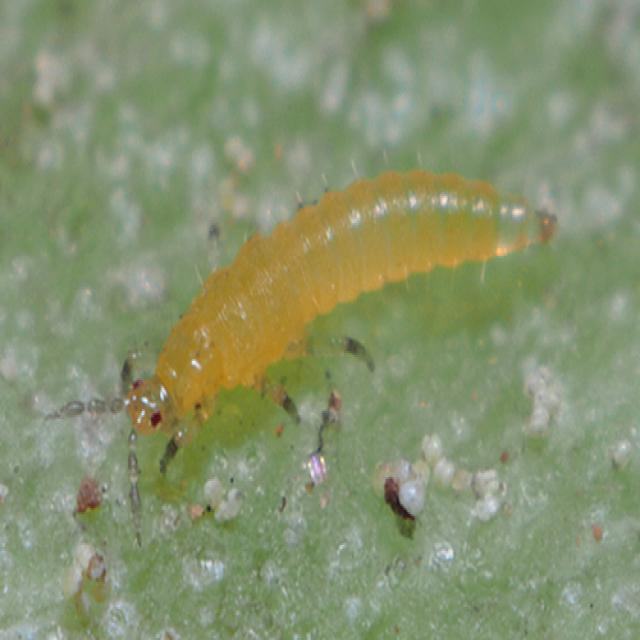Thrip-Larva-: (57, 114, 574, 504)
